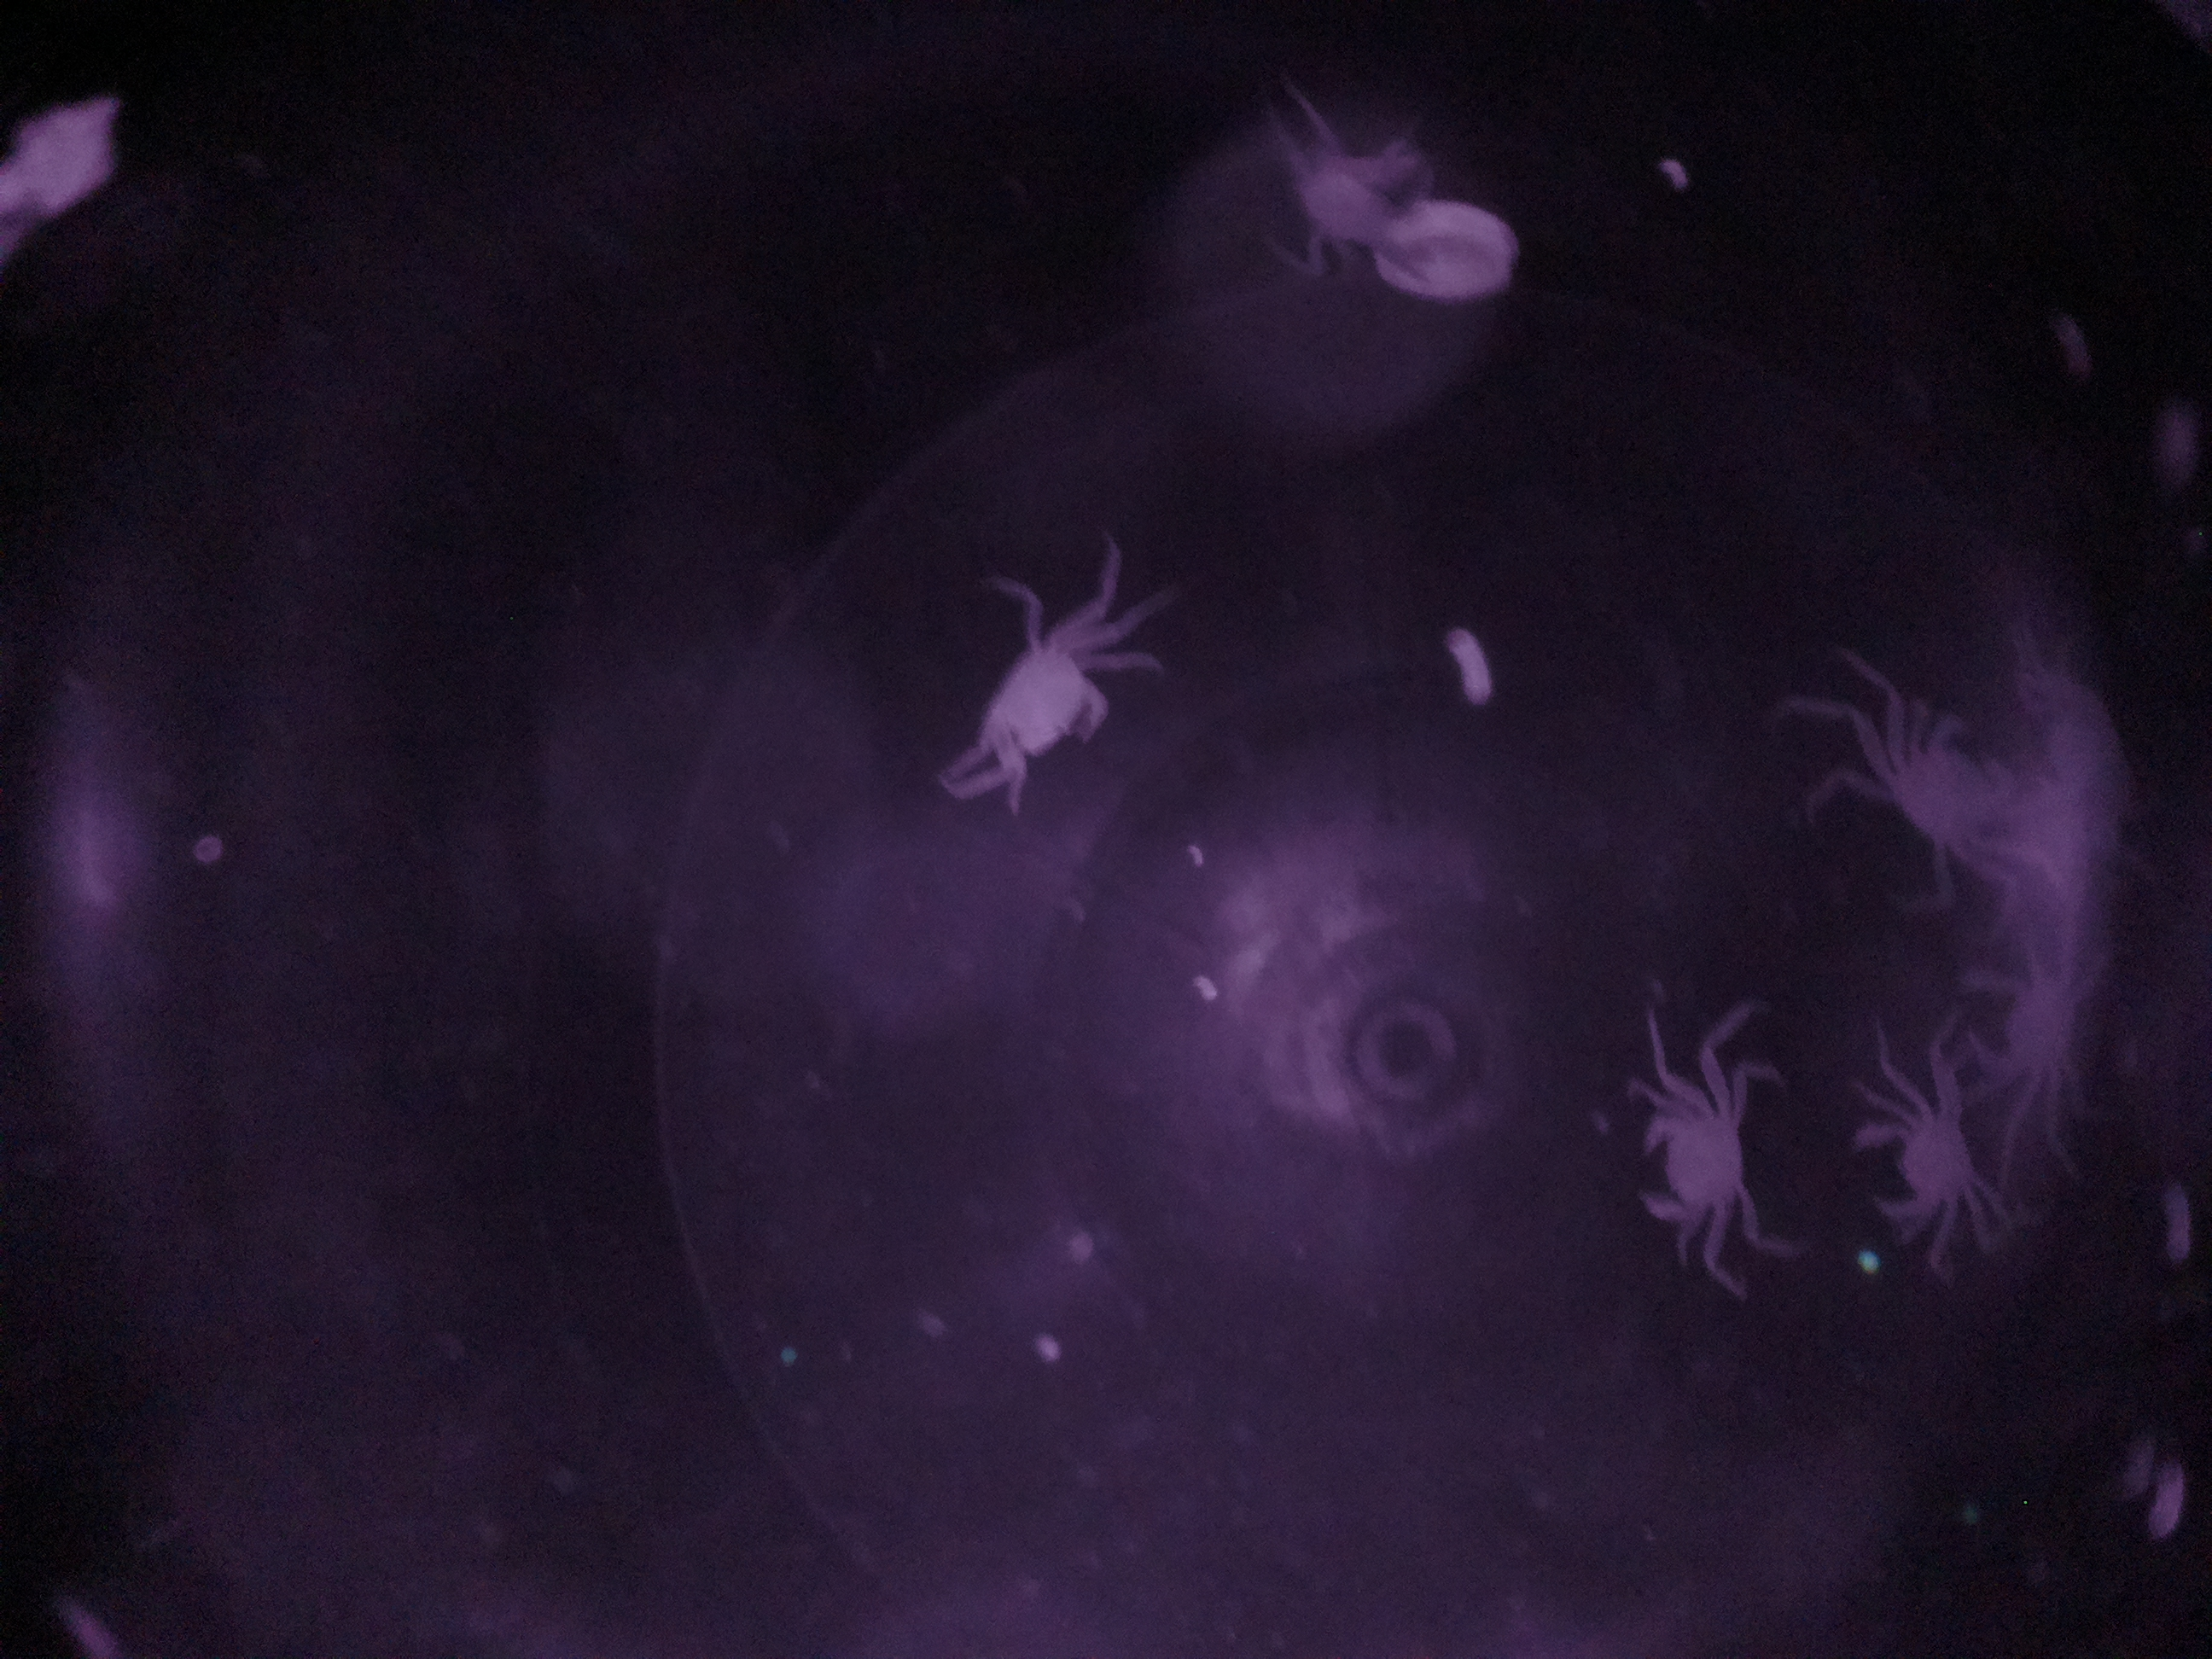Crab: (1851, 701, 2043, 913), (1839, 1070, 1994, 1243), (1627, 1082, 1750, 1249)
